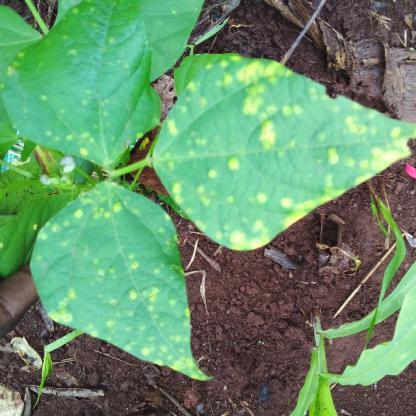Beans_Rust: (151, 39, 412, 250), (26, 178, 208, 386), (2, 5, 147, 154)
